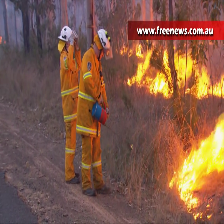fire_h: (169, 112, 224, 217), (127, 44, 224, 99)
fire_l: (120, 44, 133, 57), (194, 212, 203, 219), (207, 212, 213, 219)
